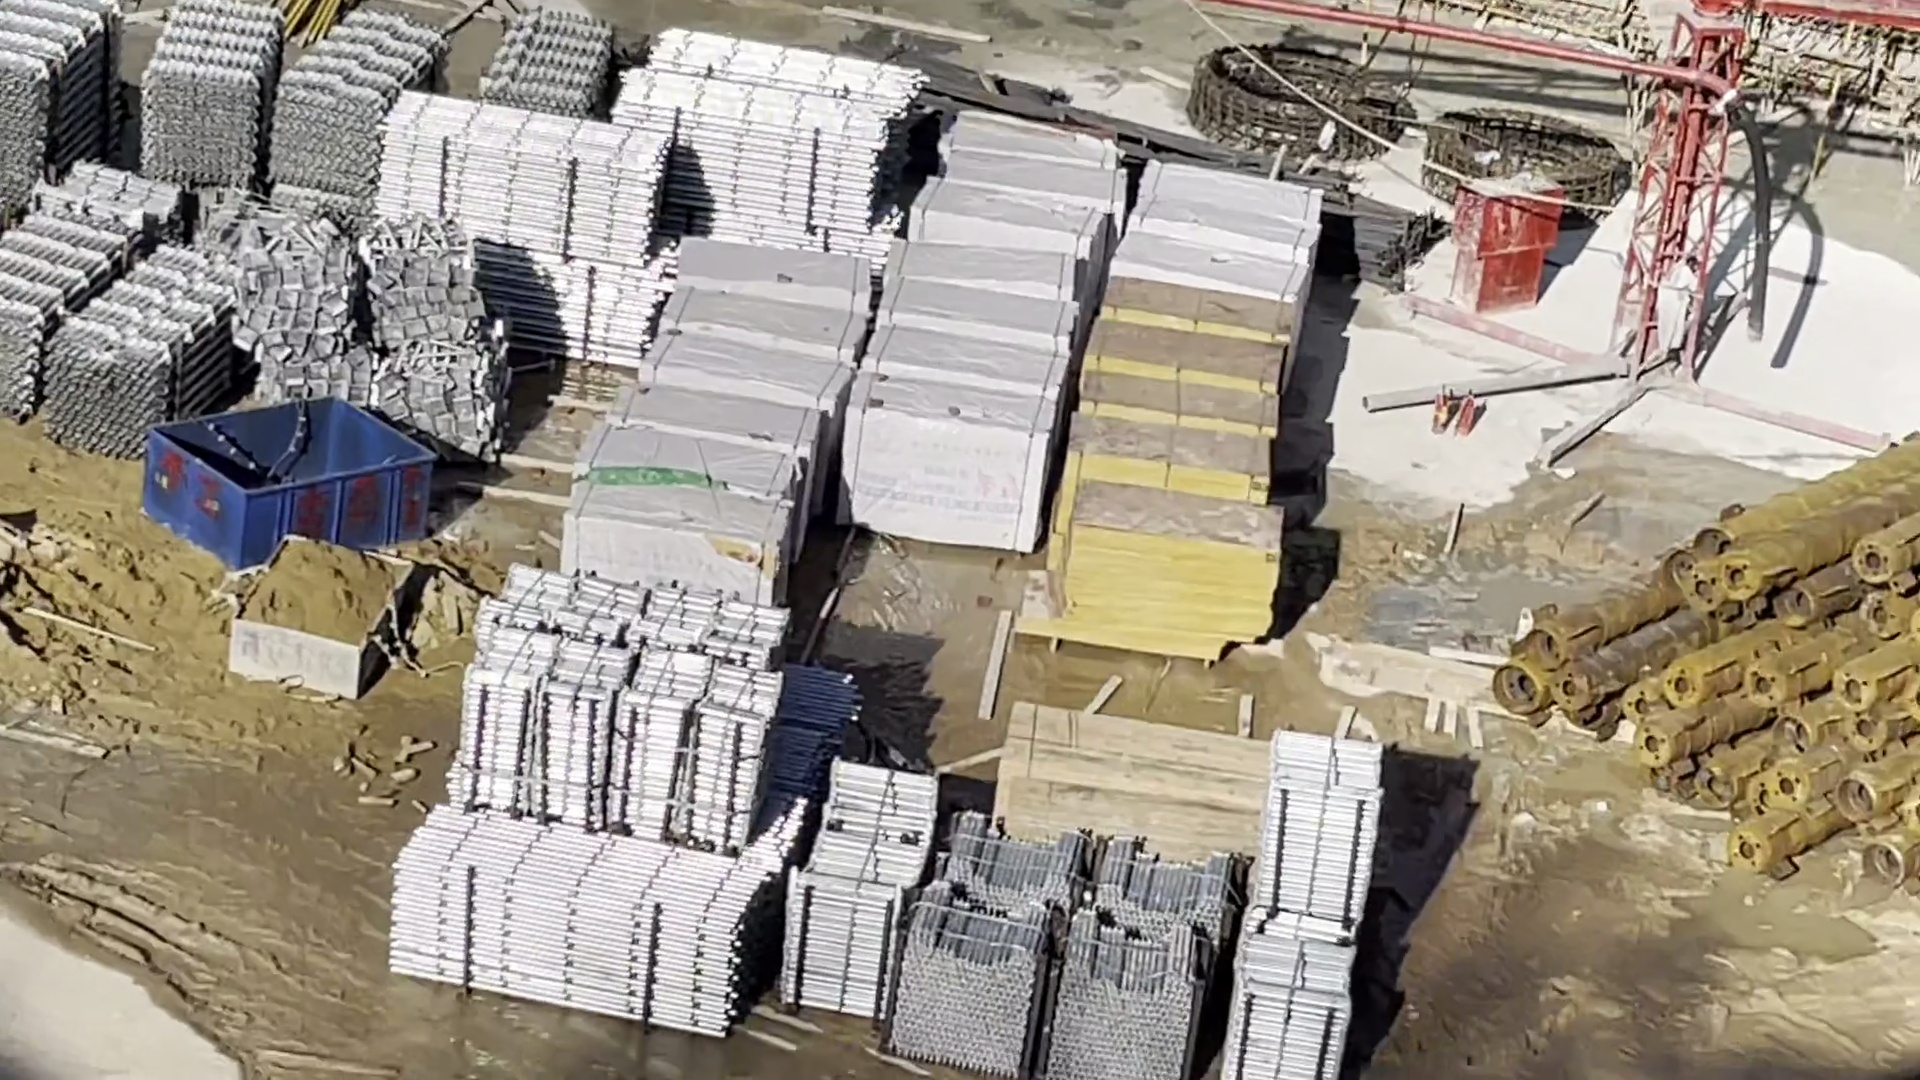board: (1075, 281, 1278, 662), (986, 708, 1265, 864)
hopper: (146, 396, 433, 566), (227, 537, 413, 702)
rebar: (975, 95, 1433, 264)
scaffold: (898, 823, 1232, 1080), (465, 574, 781, 845), (390, 818, 770, 1031), (377, 105, 663, 364), (622, 32, 913, 258), (1, 210, 251, 458), (138, 7, 427, 196), (1247, 738, 1382, 1079), (793, 761, 923, 1015), (5, 1, 124, 218), (488, 15, 621, 123)
